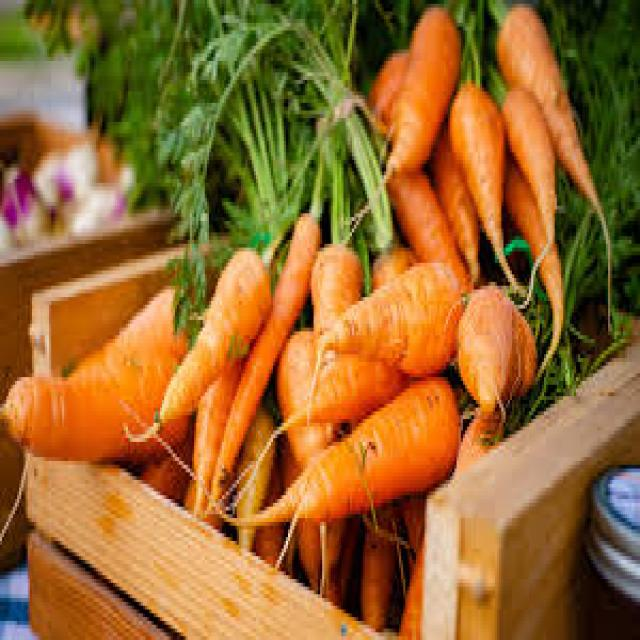Carrot: (4, 279, 202, 469), (245, 366, 450, 536), (132, 228, 263, 445), (213, 215, 323, 471), (499, 11, 611, 206), (306, 264, 474, 374), (382, 12, 452, 195), (494, 84, 563, 243), (448, 281, 543, 395), (454, 86, 508, 260)
